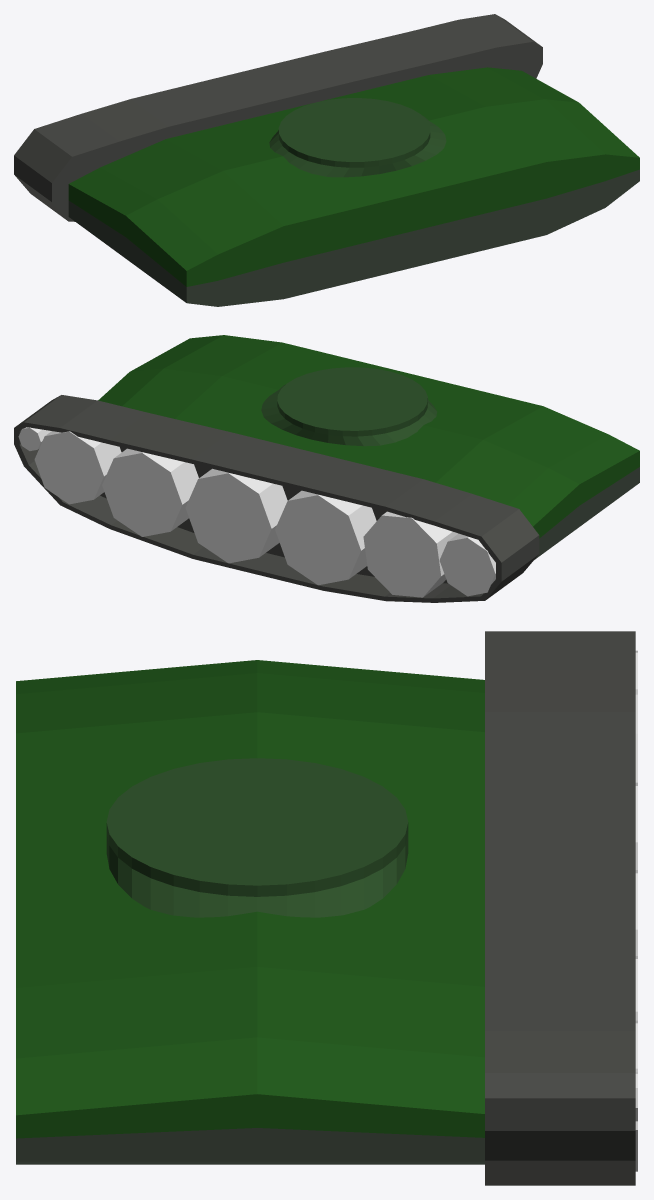
File: T-1 tank - кабина.fbx
3 views of the same model, one above another, from view 1: azimuth 30°, elevation 25°; view 2: azimuth 150°, elevation 25°; view 3: azimuth 270°, elevation 25° (orthographic). The views are drawn at different scales.
Visible parts, largest first — view 1: Дно, Гусень, Основа башни; view 2: Дно, Гусень, Основа башни, колесо4, колесо5, колесо3, колесо6, колесо2, колесо7, колесо1; view 3: Дно, Гусень, Основа башни.
Part boxes in pixels (x1,y1,x2,y2): Дно: (68,67,639,306); Гусень: (14,14,542,221); Основа башни: (269,98,446,177); Дно: (98,335,639,559); Гусень: (14,395,539,602); Основа башни: (261,367,436,446); колесо4: (185,468,287,563); колесо5: (275,490,376,585); колесо3: (102,448,198,536); колесо6: (363,511,458,597); колесо2: (34,431,121,504); колесо7: (439,533,495,596); колесо1: (18,427,51,450); Дно: (16,660,484,1164); Гусень: (485,631,635,1185); Основа башни: (106,758,408,917).
Bounding box in the file's own units: 746 × 156 × 412.
